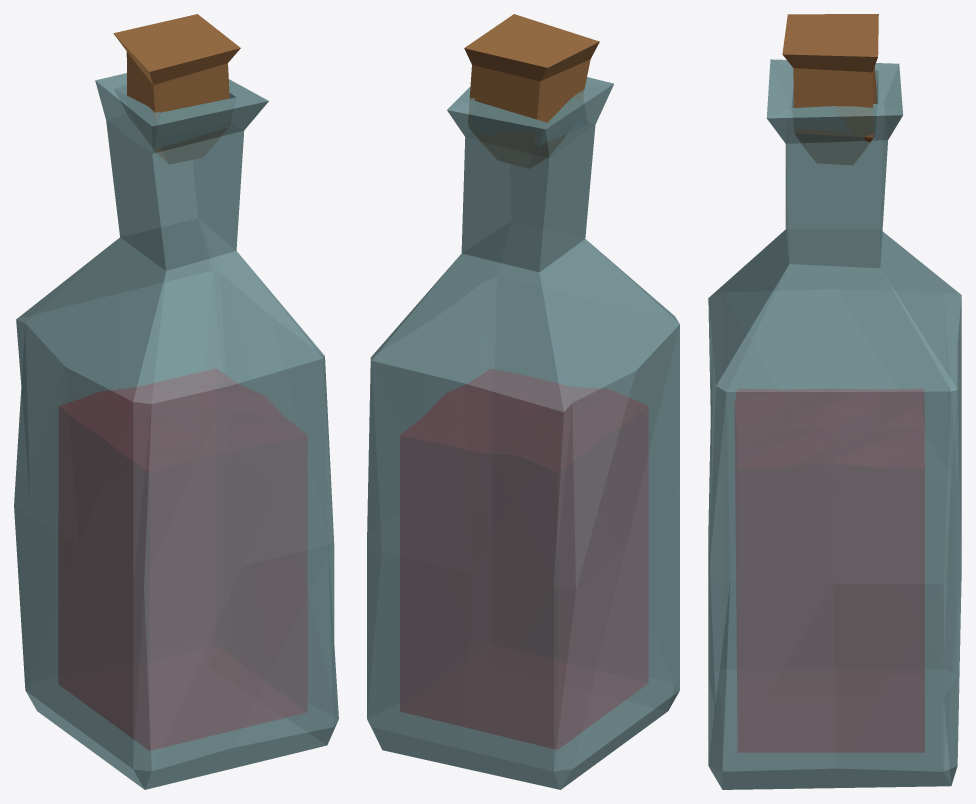
Rendered from RedPotion_S.fbx.
3 views of the same model, side by side, from view 1: azimuth 30°, elevation 25°; view 2: azimuth 150°, elevation 25°; view 3: azimuth 270°, elevation 25° (orthographic). The views are drawn at different scales.
Visible parts, largest first — view 1: PotionBottle, Potion, Coke; view 2: PotionBottle, Potion, Coke; view 3: PotionBottle, Potion, Coke.
Boxes of the visible parts, <box> form: PotionBottle: <box>14,73,338,789</box>; Potion: <box>59,369,306,750</box>; Coke: <box>113,14,240,163</box>; PotionBottle: <box>367,77,679,789</box>; Potion: <box>400,369,647,749</box>; Coke: <box>464,14,599,168</box>; PotionBottle: <box>708,59,961,789</box>; Potion: <box>735,389,924,751</box>; Coke: <box>782,14,878,164</box>.
Size of the model in its own units: 410 by 1241 by 403.
